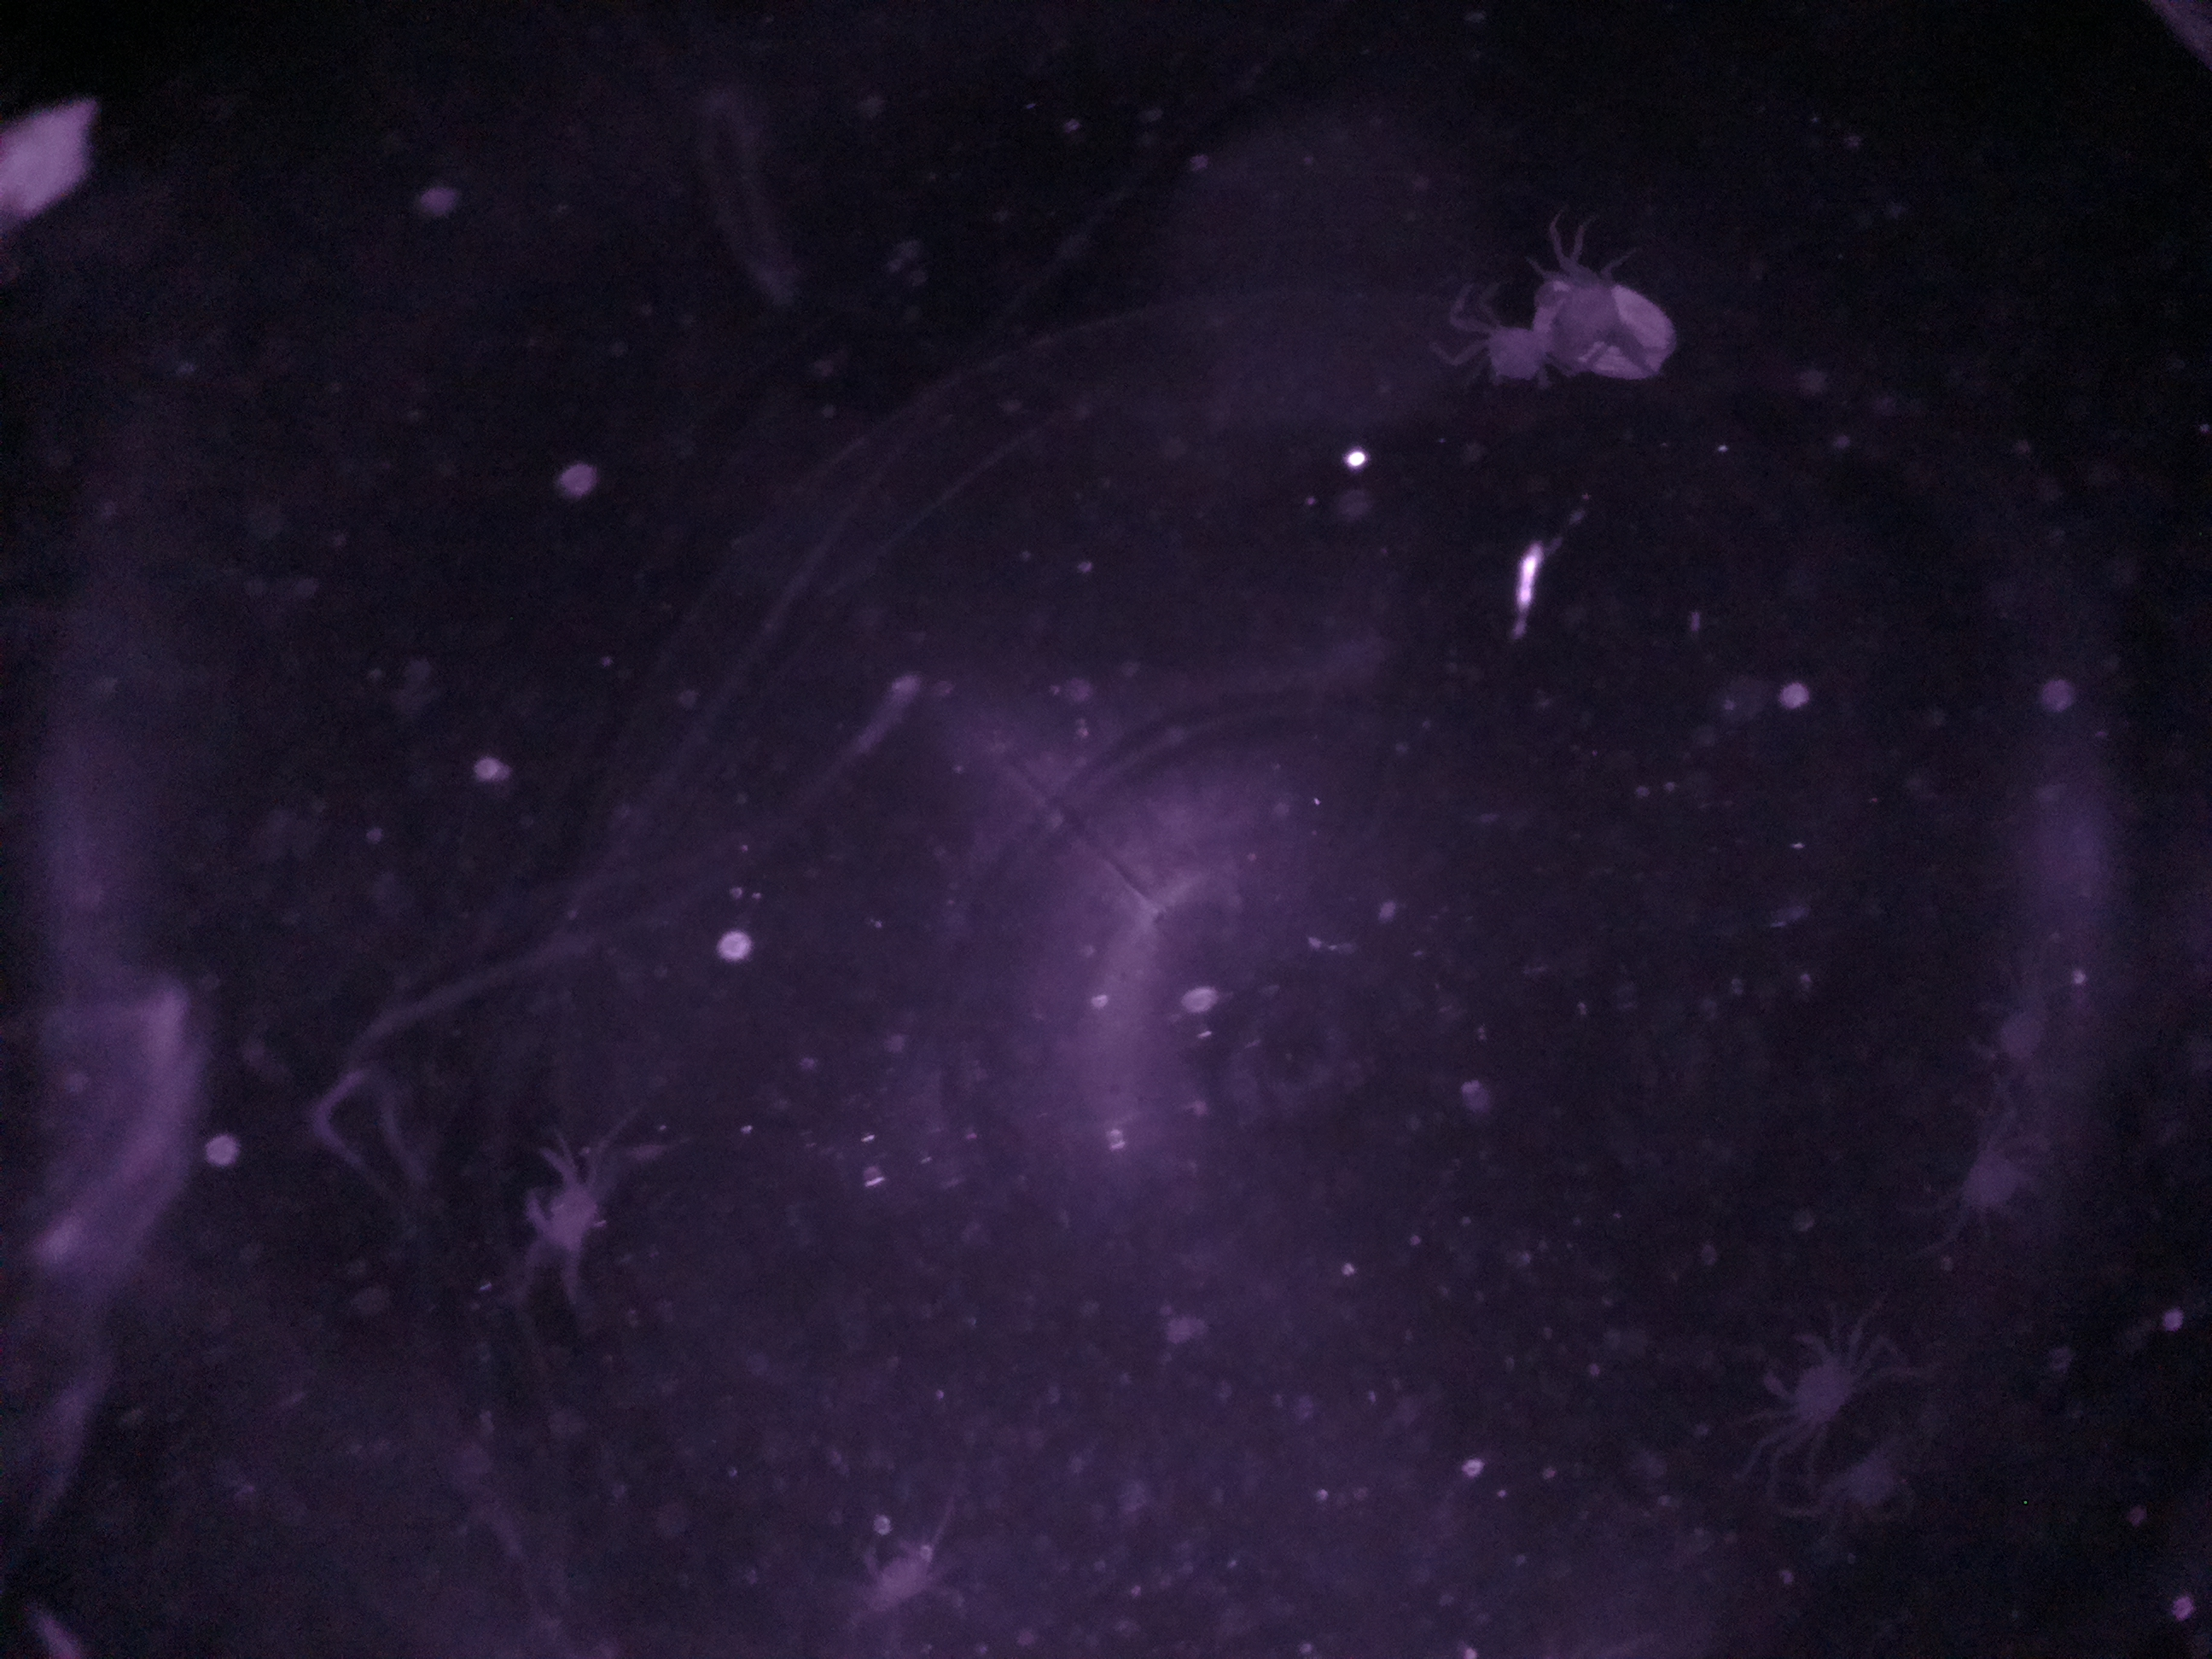Crab: (1749, 1305, 1872, 1462), (1454, 310, 1581, 408)
